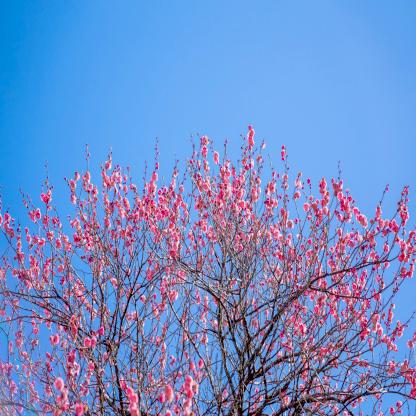Ume: (0, 121, 416, 416)
